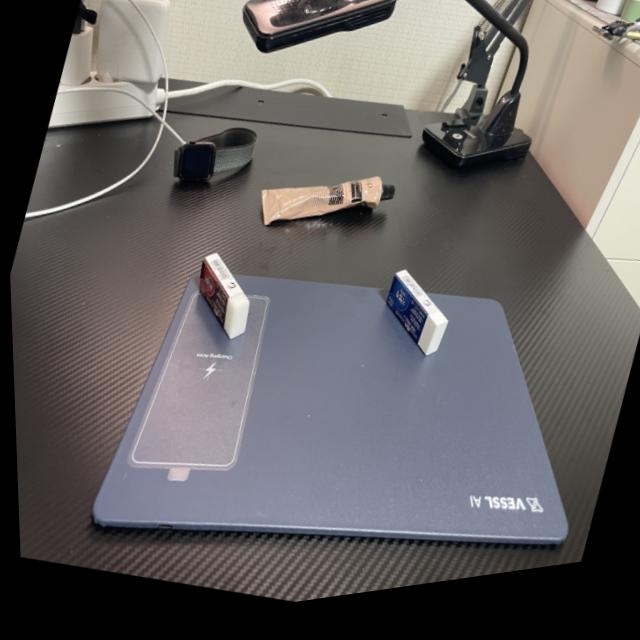blue: (361, 261, 467, 388)
red: (169, 235, 270, 371)
